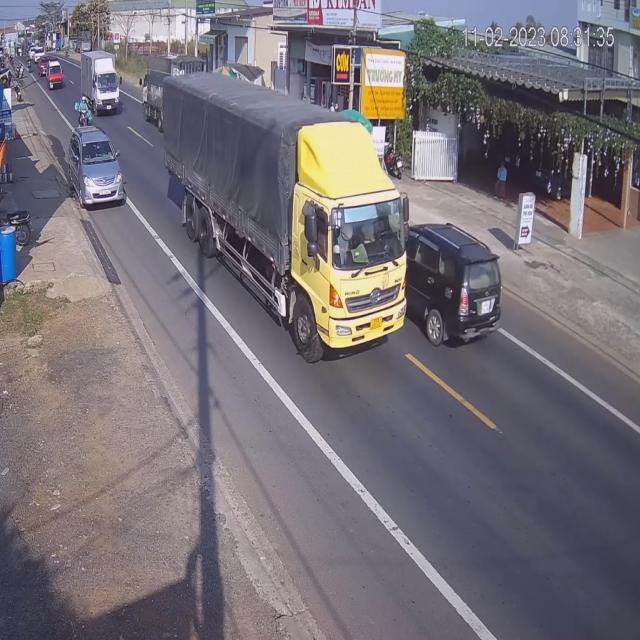car: (404, 223, 501, 349), (69, 130, 123, 210), (46, 56, 65, 89)
motorbike: (76, 95, 93, 126)
truck: (166, 124, 408, 364), (81, 52, 119, 116), (141, 65, 167, 115)
